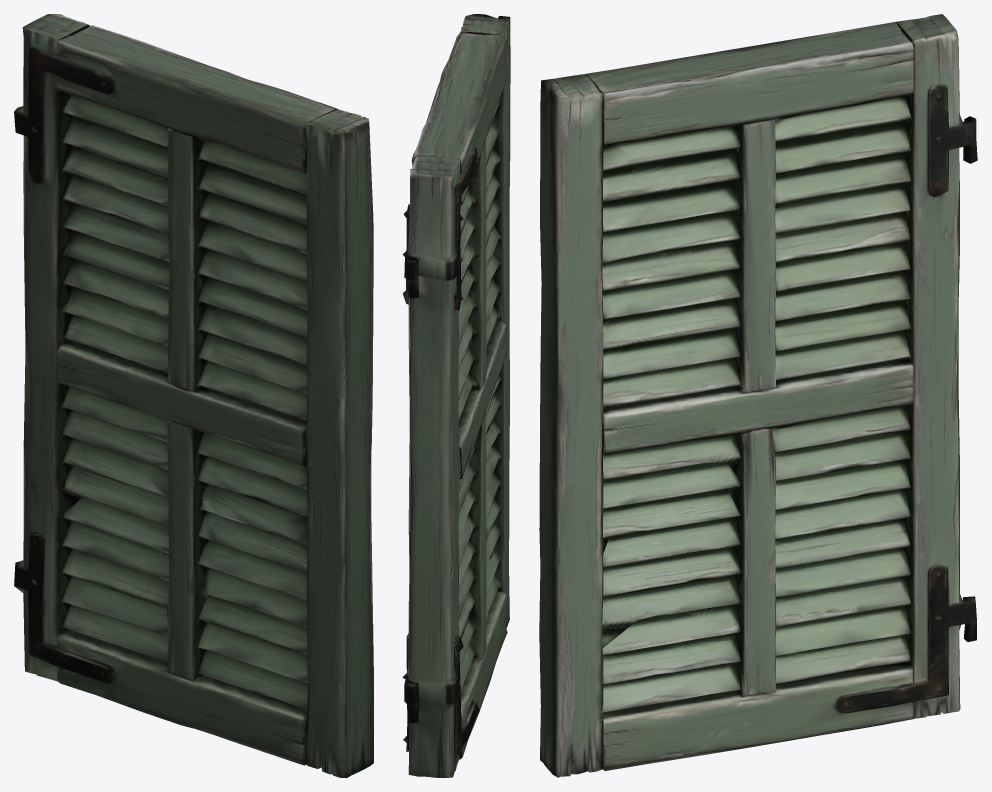
3 views of the same model, side by side, from view 1: azimuth 30°, elevation 25°; view 2: azimuth 150°, elevation 25°; view 3: azimuth 270°, elevation 25° (orthographic). The views are drawn at different scales.
Visible parts, largest first — view 1: tripo_node_6ccfeae5-966b-46d5-acaf-901cb180c8d4; view 2: tripo_node_6ccfeae5-966b-46d5-acaf-901cb180c8d4; view 3: tripo_node_6ccfeae5-966b-46d5-acaf-901cb180c8d4.
Boxes of the visible parts, bbox=[...] form: tripo_node_6ccfeae5-966b-46d5-acaf-901cb180c8d4: bbox=[14, 14, 373, 777]; tripo_node_6ccfeae5-966b-46d5-acaf-901cb180c8d4: bbox=[402, 14, 510, 777]; tripo_node_6ccfeae5-966b-46d5-acaf-901cb180c8d4: bbox=[539, 14, 977, 777].
Size of the model in its own units: 0.276 by 0.9769 by 0.5726.
Materials: 1 (1 with a texture image).
